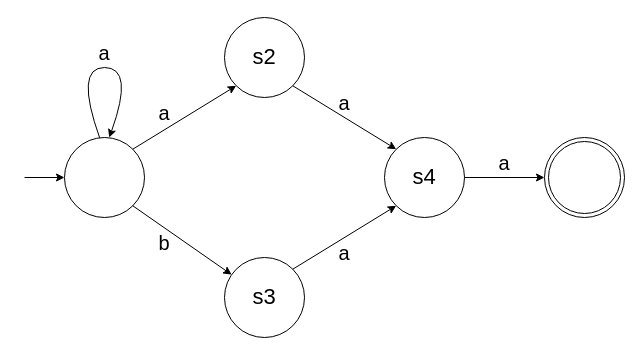
Image size: 642x355. Some labels were removed from this diagram. The shapes that lost their labels are listed below. From the top down, each one's box as (x1, y1, x2, y2) in pixels, then its label:
(64, 136, 144, 218): s1
(544, 136, 624, 218): s5
